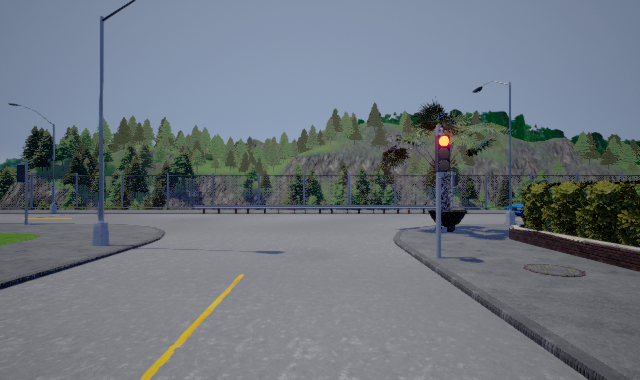traffic_light: (435, 134, 451, 171)
